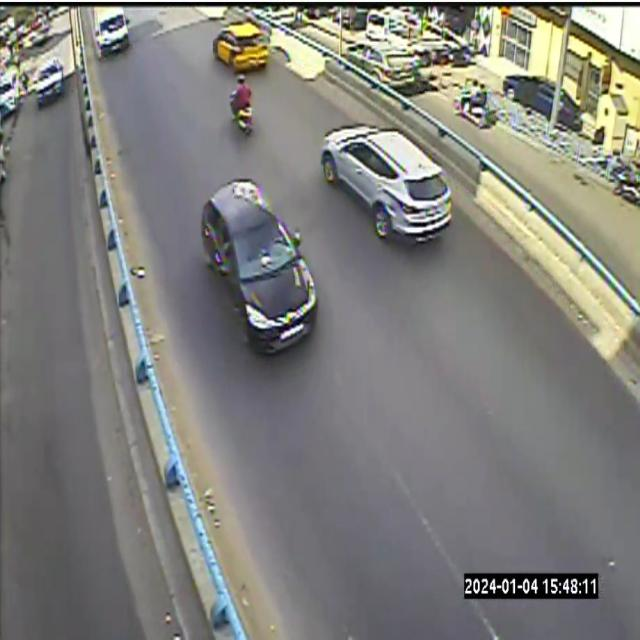car: (200, 178, 317, 355), (200, 179, 317, 353), (32, 56, 64, 108), (34, 57, 63, 107)
